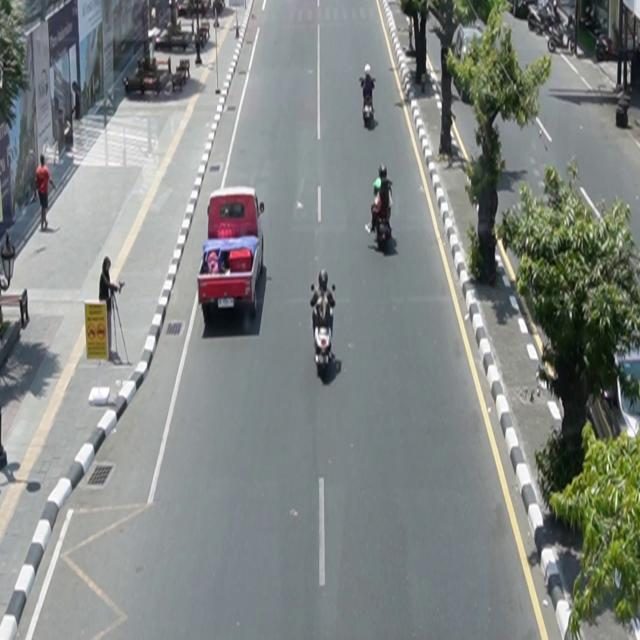truck: (198, 187, 266, 322)
